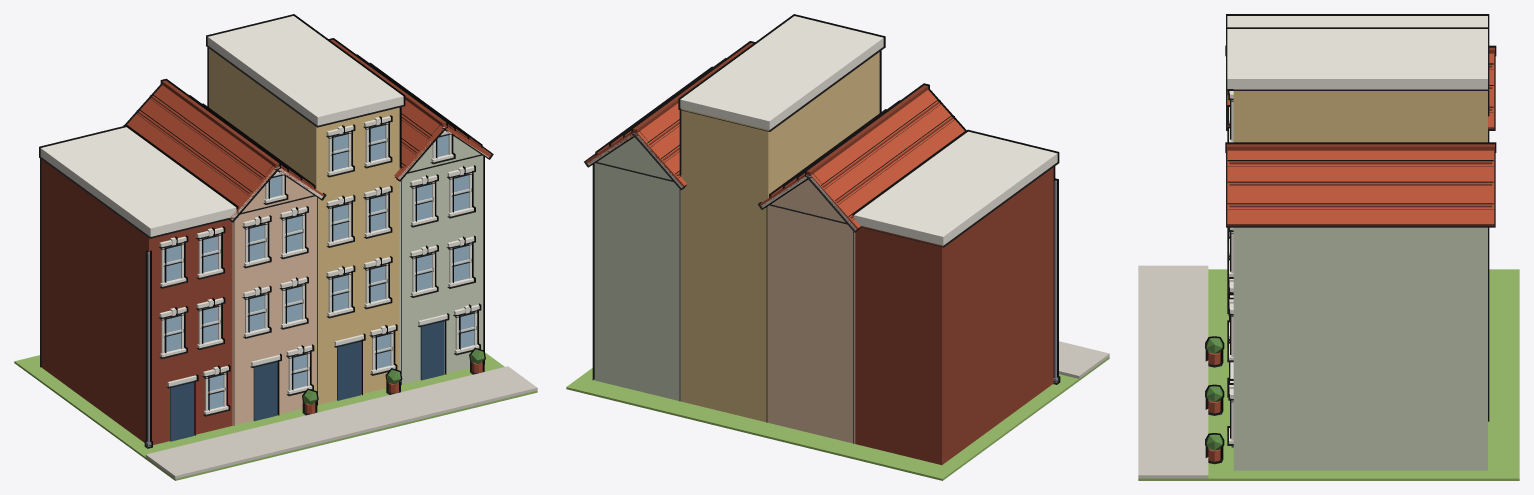
File: Konut_sira_evler_1.fbx
3 views of the same model, side by side, from view 1: azimuth 30°, elevation 25°; view 2: azimuth 150°, elevation 25°; view 3: azimuth 270°, elevation 25° (orthographic). The views are drawn at different scales.
Visible parts, largest first — view 1: Konut_sira_evler_1; view 2: Konut_sira_evler_1; view 3: Konut_sira_evler_1.
Part boxes in pixels (bbox=[...]): Konut_sira_evler_1: bbox=[14, 14, 537, 480]; Konut_sira_evler_1: bbox=[566, 14, 1109, 480]; Konut_sira_evler_1: bbox=[1138, 14, 1519, 480].
Size of the model in its own units: 15.6 by 12.08 by 12.
